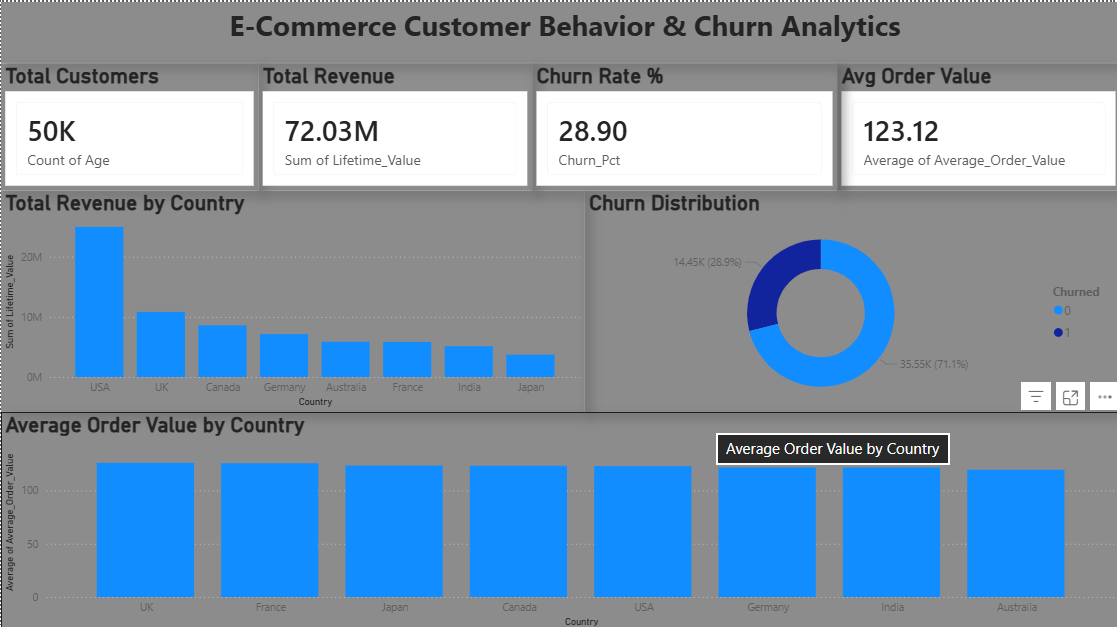

The dashboard page shown, as its layout file describes it:
{"tool":"powerbi","page":{"name":"Page 1","canvas":[1280,720],"ordinal":0},"visuals":[{"type":"textbox","box":[0,0,1280,69.7],"z":0},{"type":"cardVisual","title":"     Total Customers","fields":{"Data":["CountNonNull(ecommerc.Age)"]},"box":[0,70,294.3,145.7],"z":1000},{"type":"cardVisual","title":"Total Revenue","fields":{"Data":["Sum(ecommerc.Lifetime_Value)"]},"box":[294.3,70,312.9,145.7],"z":2000},{"type":"cardVisual","title":"Avg Order Value","fields":{"Data":["Avg(ecommerc.Average_Order_Value)"]},"box":[955.7,70,324.3,145.7],"z":3000},{"type":"cardVisual","title":"Churn Rate %","fields":{"Data":["ecommerc.Churn_Pct"]},"box":[607.1,70,348.6,145.7],"z":4000},{"type":"clusteredColumnChart","title":"Total Revenue by Country","fields":{"Category":["ecommerc.Country"],"Y":["Sum(ecommerc.Lifetime_Value)"]},"box":[0,215.7,667.1,252.9],"z":5000},{"type":"donutChart","title":"Churn Distribution","fields":{"Category":["ecommerc.Churned"],"Y":["CountNonNull(ecommerc.Churned)"]},"box":[667.1,215.7,612.9,252.9],"z":6000},{"type":"clusteredColumnChart","title":"Average Order Value by Country","fields":{"Category":["ecommerc.Country"],"Y":["Avg(ecommerc.Average_Order_Value)"]},"box":[0,468.6,1280,251.4],"z":7000}]}

Visuals, with their boxes in screenshot pixels (x1, y1, x2, y2), scaled from the page's 1280x720 canvas onto the 1117x627 screenshot:
textbox: (0,0,1116,61)
"     Total Customers" cardVisual: (0,61,257,188)
"Total Revenue" cardVisual: (257,61,530,188)
"Avg Order Value" cardVisual: (834,61,1116,188)
"Churn Rate %" cardVisual: (530,61,834,188)
"Total Revenue by Country" clusteredColumnChart: (0,188,582,408)
"Churn Distribution" donutChart: (582,188,1116,408)
"Average Order Value by Country" clusteredColumnChart: (0,408,1116,626)
